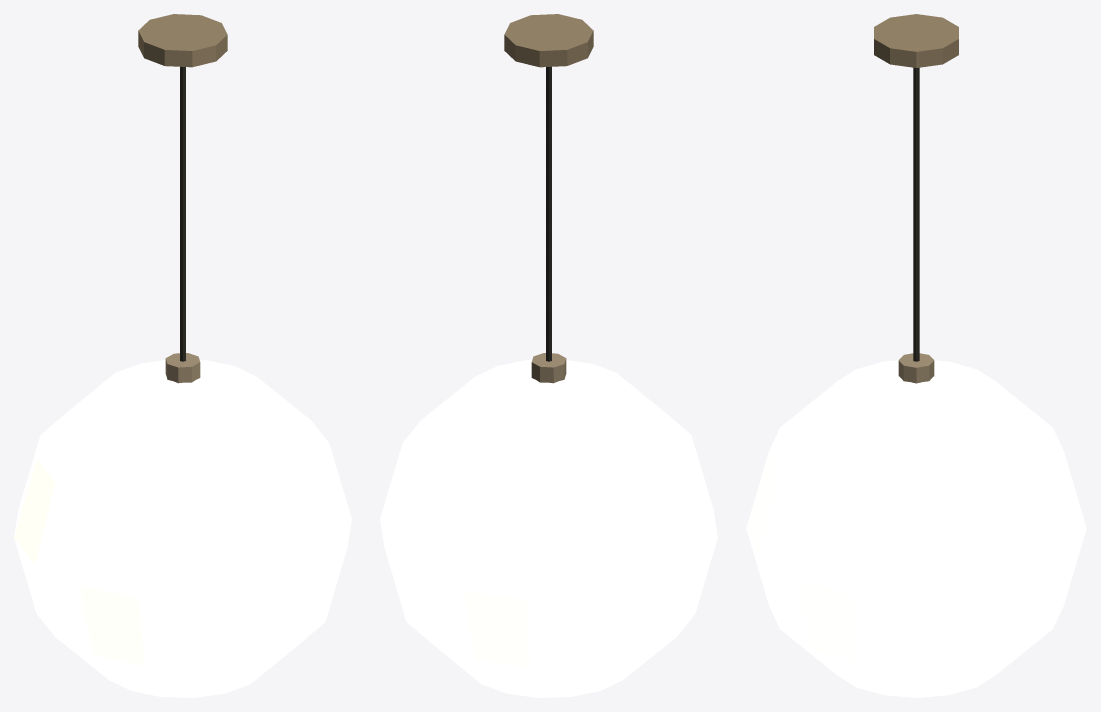
File: ball_light.glb
3 renders of one model, left to right at view 1: azimuth 30°, elevation 25°; view 2: azimuth 150°, elevation 25°; view 3: azimuth 270°, elevation 25°, orthographic.
Visible parts, largest first — view 1: home_ball_light; view 2: home_ball_light; view 3: home_ball_light.
Boxes of the visible parts, x1,y1,x2,y2 form: home_ball_light: (14,14,351,697); home_ball_light: (380,14,717,697); home_ball_light: (746,14,1086,697).
Size of the model in its own units: 0.38 by 0.7995 by 0.38.
2 materials, 2 textured.
